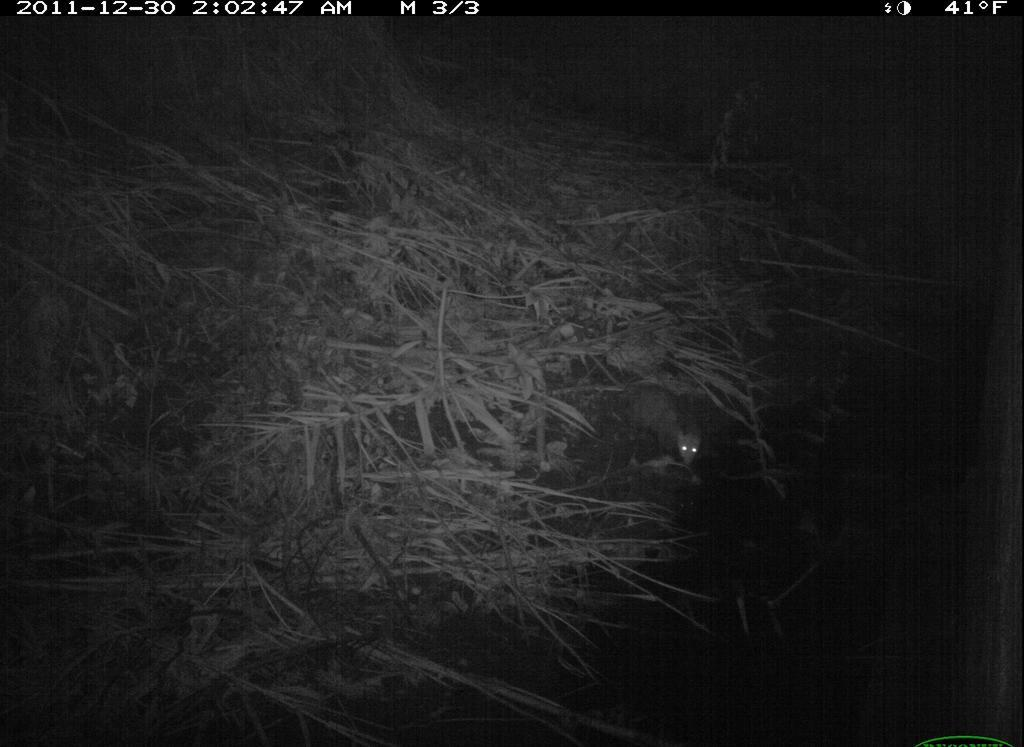opossum: (584, 342, 726, 477)
